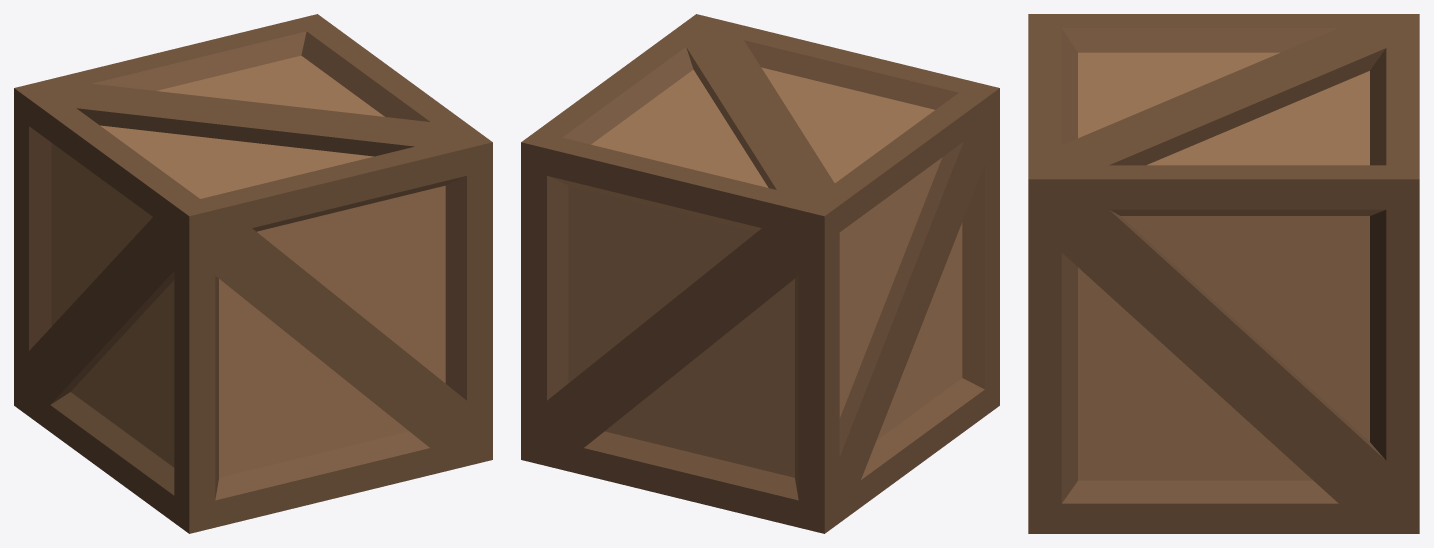
Rendered from BigBox.fbx.
3 views of the same model, side by side, from view 1: azimuth 30°, elevation 25°; view 2: azimuth 150°, elevation 25°; view 3: azimuth 270°, elevation 25° (orthographic). The views are drawn at different scales.
Parts seen in each view (by area): view 1: BigBox; view 2: BigBox; view 3: BigBox.
Part boxes in pixels (x1,y1,x2,y2): BigBox: [14, 14, 492, 533]; BigBox: [521, 14, 999, 533]; BigBox: [1028, 14, 1419, 533].
Size of the model in its own units: 100 by 100 by 100.
